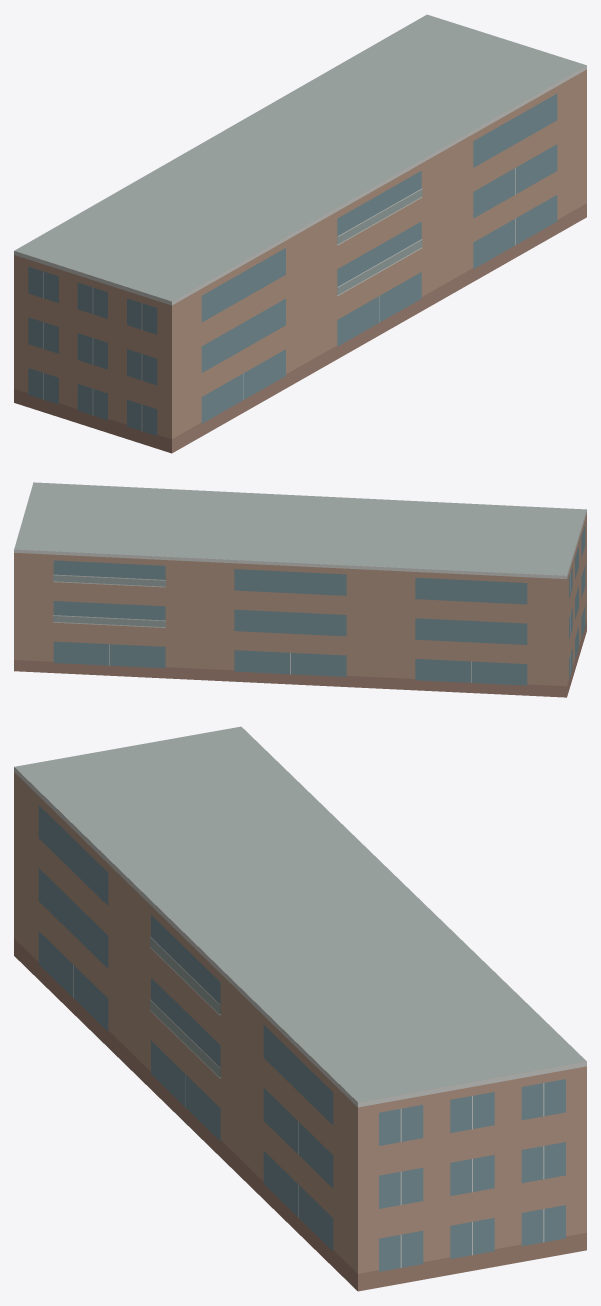
Rendered from survey-upis-32762031.glb.
3 views of the same model, one above another, from view 1: azimuth 30°, elevation 25°; view 2: azimuth 150°, elevation 25°; view 3: azimuth 270°, elevation 25° (orthographic). The views are drawn at different scales.
Parts seen in each view (by area): view 1: survey-upis-32762031.tmp; view 2: survey-upis-32762031.tmp; view 3: survey-upis-32762031.tmp.
Boxes of the visible parts, x1,y1,x2,y2 form: survey-upis-32762031.tmp: (14,14,586,453); survey-upis-32762031.tmp: (14,482,586,697); survey-upis-32762031.tmp: (14,726,586,1291).
Size of the model in its own units: 39.06 by 9.15 by 25.15.
